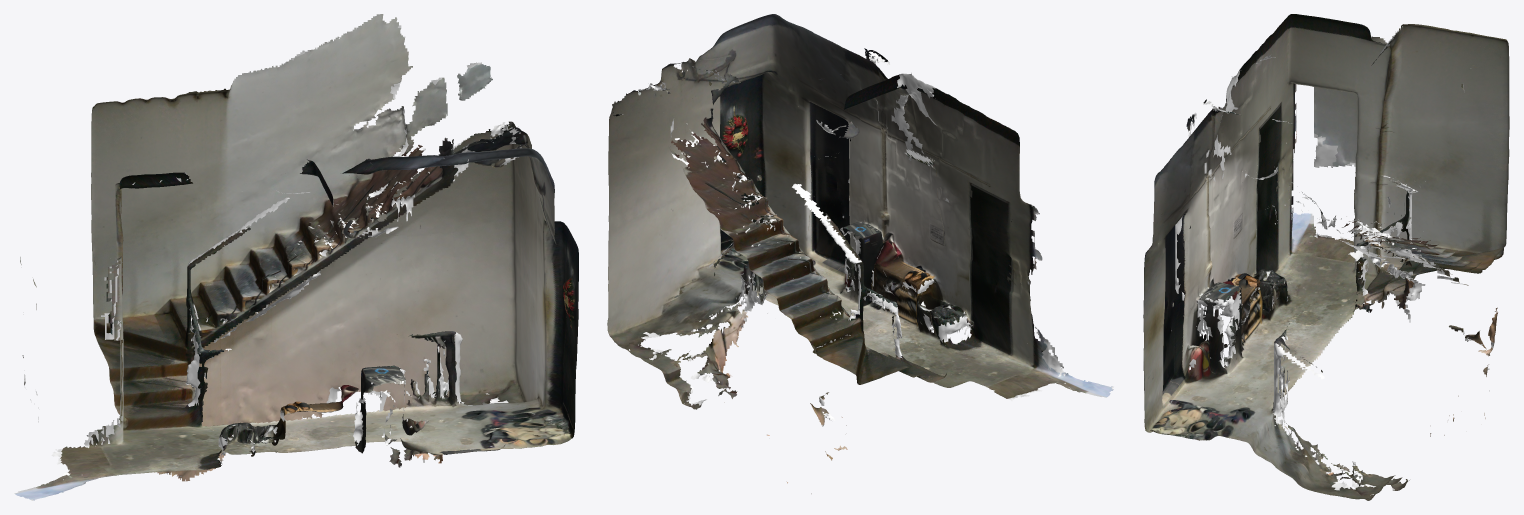
3 views of the same model, side by side, from view 1: azimuth 30°, elevation 25°; view 2: azimuth 150°, elevation 25°; view 3: azimuth 270°, elevation 25° (orthographic). The views are drawn at different scales.
Visible parts, largest first — view 1: texture_1, texture_7, texture_2, texture_6, texture_0, texture_4, object 1, texture_8, texture_5; view 2: texture_4, texture_1, texture_0, texture_3, texture_7, texture_8, texture_2, texture_5, object 1, texture_6; view 3: texture_2, texture_6, texture_0, texture_4, texture_3, object 1, texture_1, texture_5, texture_7.
Boxes of the visible parts, x1,y1,x2,y2 form: texture_1: (198, 14, 540, 467); texture_7: (14, 63, 371, 498); texture_2: (22, 97, 312, 481); texture_6: (20, 90, 360, 500); texture_0: (271, 158, 570, 454); texture_4: (300, 127, 578, 449); object 1: (24, 18, 521, 500); texture_8: (440, 127, 578, 374); texture_5: (81, 401, 338, 473); texture_4: (665, 14, 927, 269); texture_1: (607, 77, 892, 409); texture_0: (698, 52, 935, 355); texture_3: (881, 84, 1040, 261); texture_7: (695, 192, 1113, 425); texture_8: (615, 14, 795, 273); texture_2: (748, 152, 1050, 493); texture_5: (876, 185, 1046, 381); object 1: (619, 50, 1113, 460); texture_6: (732, 155, 1112, 391); texture_2: (1269, 24, 1509, 418); texture_6: (1243, 14, 1509, 356); texture_0: (1144, 176, 1321, 459); texture_4: (1143, 99, 1293, 433); texture_3: (1205, 14, 1296, 284); object 1: (1171, 29, 1494, 495); texture_1: (1234, 184, 1448, 500); texture_5: (1218, 138, 1317, 348); texture_7: (1255, 67, 1497, 436).
Bounding box in the file's own units: 6.79 × 5.5 × 4.22.
Materials: 10 (9 with a texture image).
